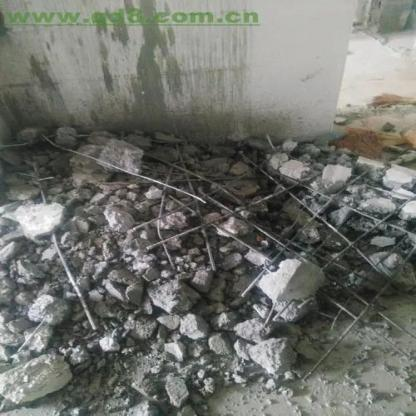rebar: (39, 136, 415, 381), (46, 236, 107, 339), (35, 164, 51, 202)
